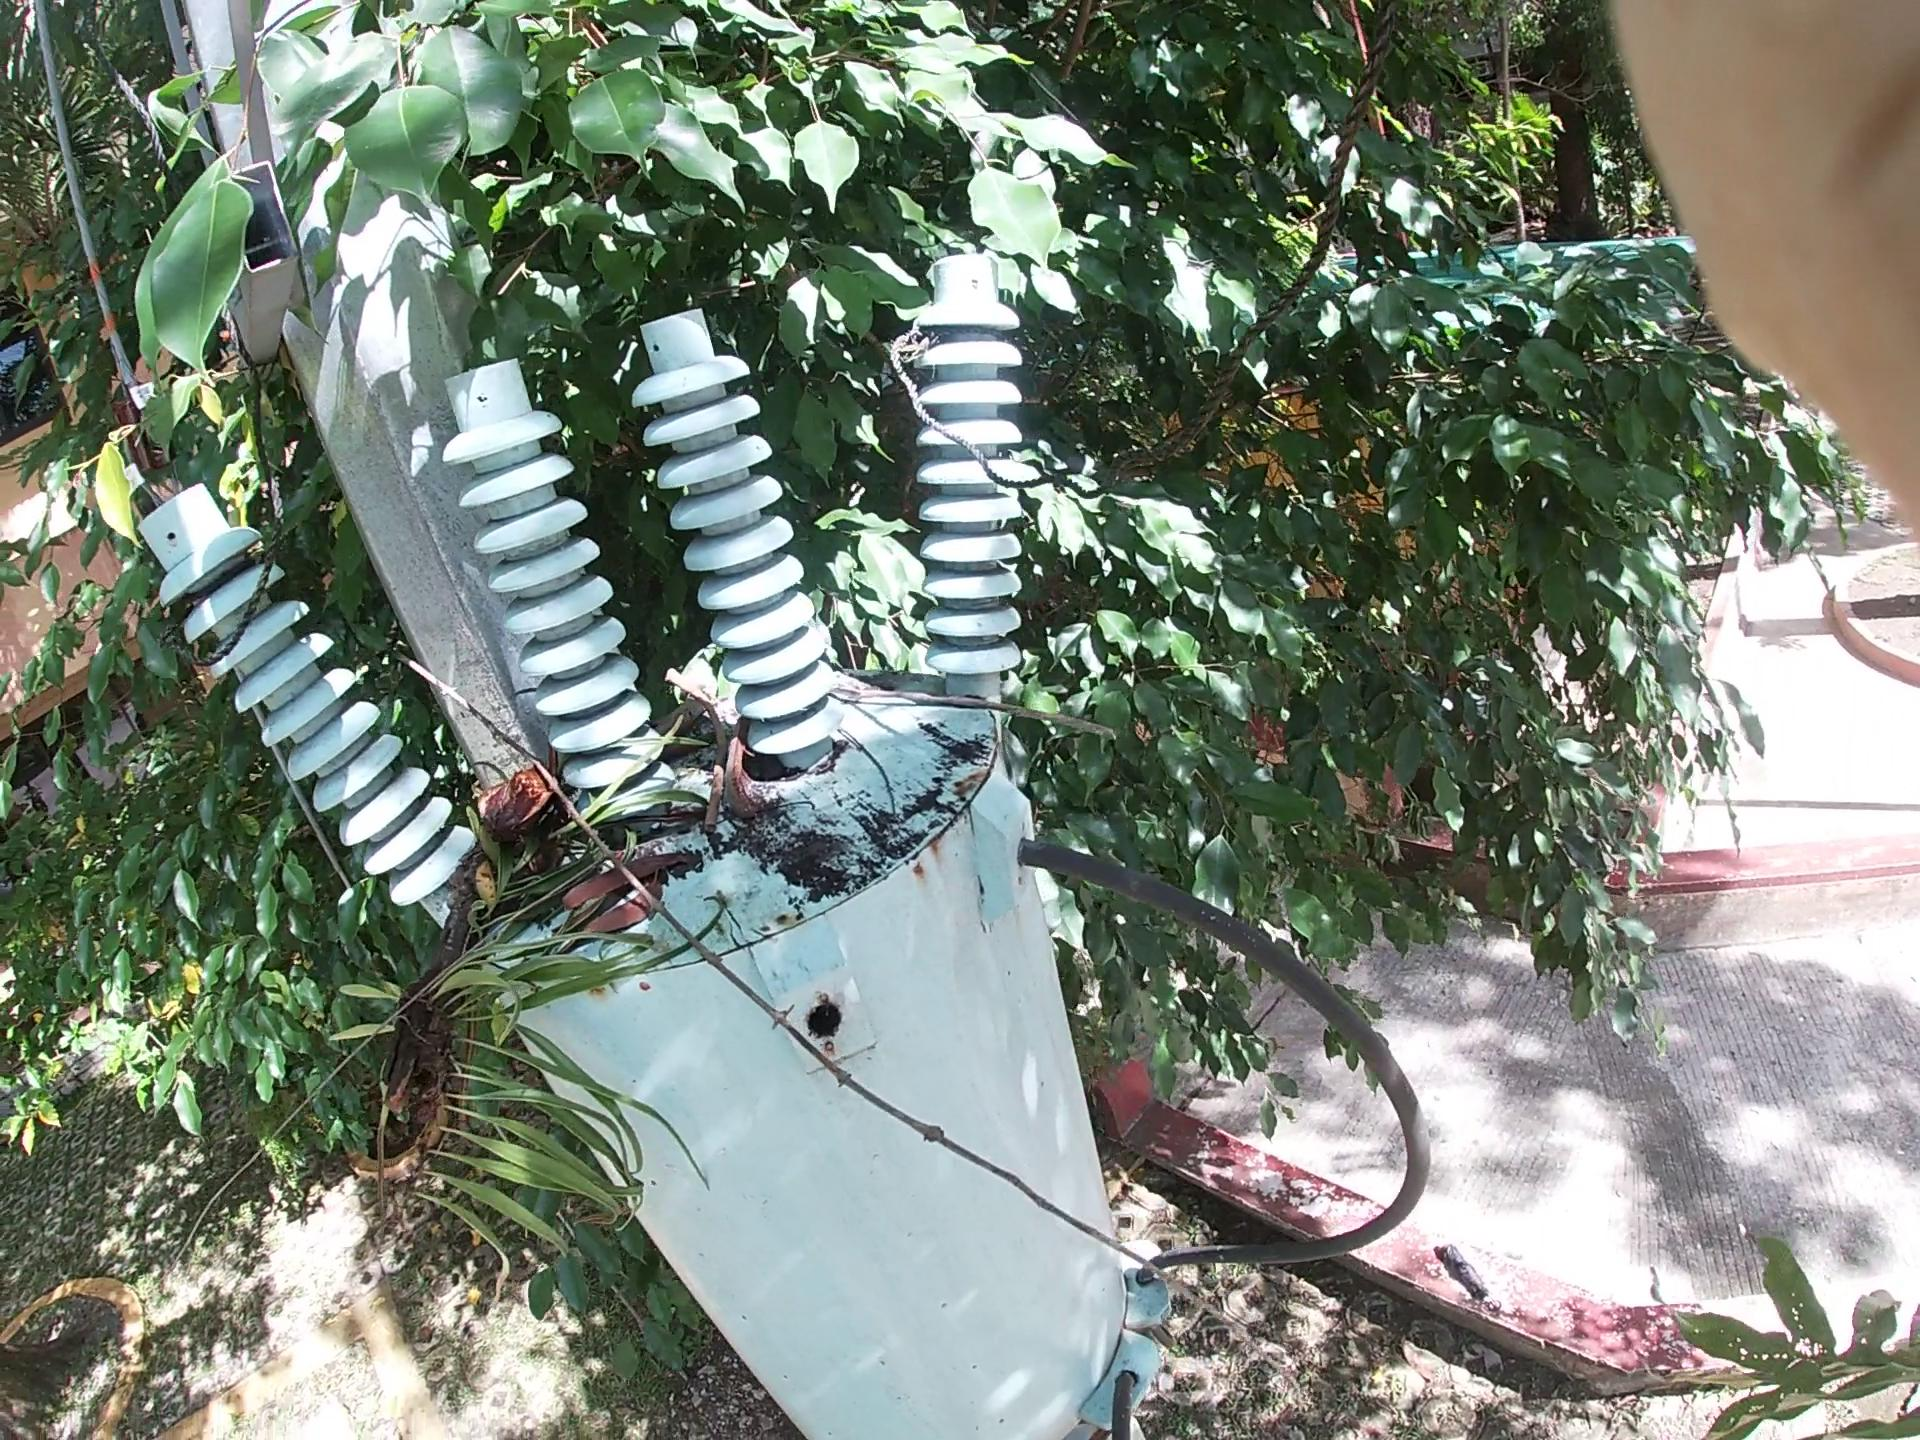branch with leaves: (228, 734, 671, 1257)
leaf: (556, 833, 703, 954)
mahogany fruit: (649, 672, 835, 864), (481, 743, 643, 877)
tree branch: (299, 622, 1203, 1243), (553, 620, 1212, 768), (590, 622, 757, 830)
